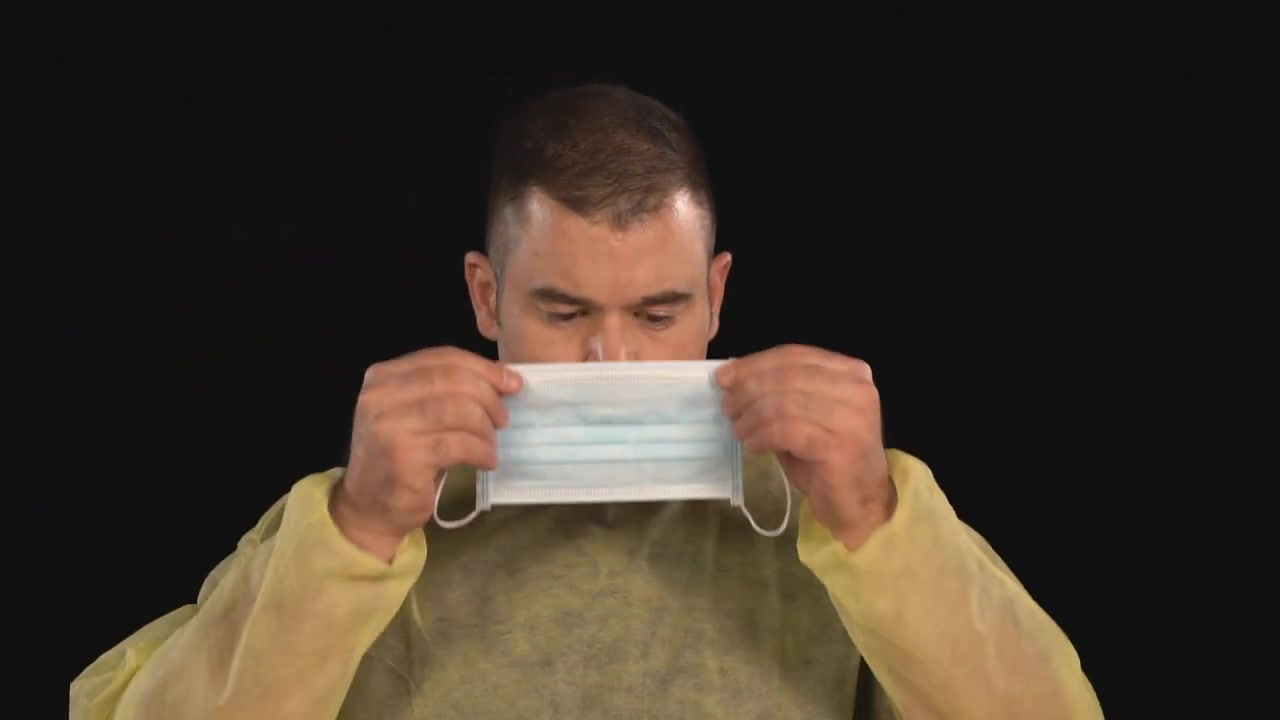Coverall: (140, 424, 1112, 720)
mask_weared_incorrect: (480, 353, 770, 548)
